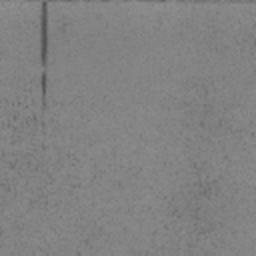Scratches: (38, 0, 50, 68), (40, 72, 46, 97)
